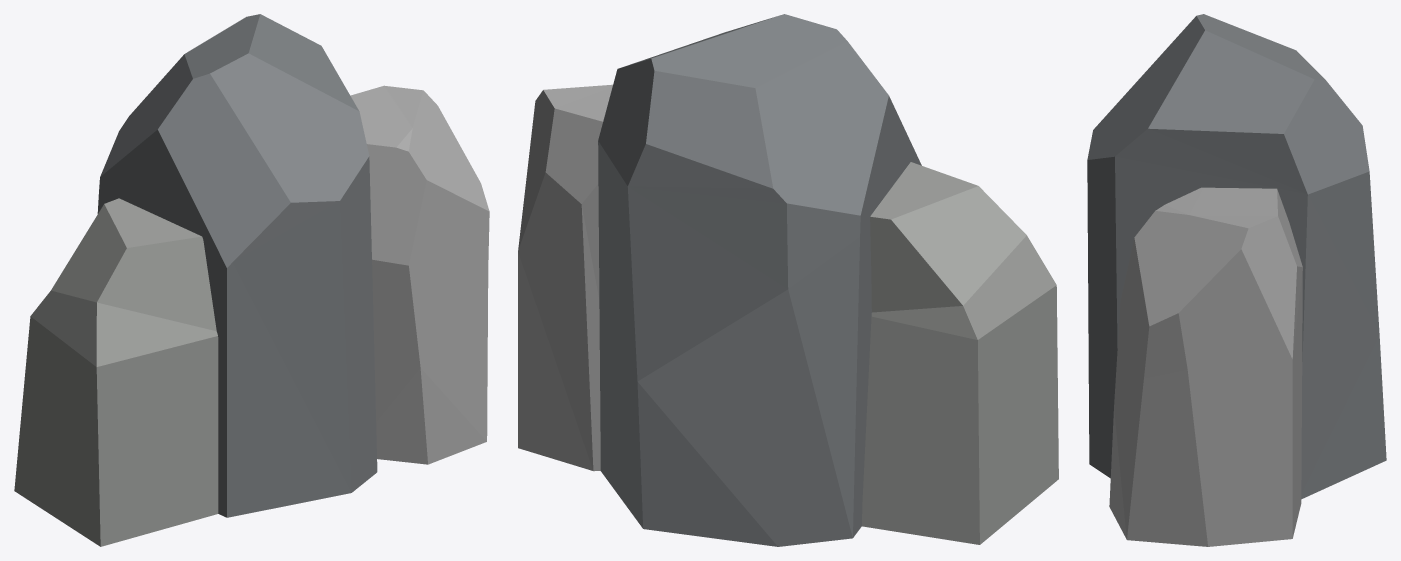
Rendered from Rock_Wall_03.fbx.
3 views of the same model, side by side, from view 1: azimuth 30°, elevation 25°; view 2: azimuth 150°, elevation 25°; view 3: azimuth 270°, elevation 25° (orthographic). The views are drawn at different scales.
Visible parts, largest first — view 1: Rock_Wall_03; view 2: Rock_Wall_03; view 3: Rock_Wall_03.
Boxes of the visible parts, x1,y1,x2,y2 form: Rock_Wall_03: (14, 14, 489, 546); Rock_Wall_03: (518, 14, 1058, 546); Rock_Wall_03: (1087, 14, 1386, 546).
Bounding box in the file's own units: 455 × 419 × 276.
